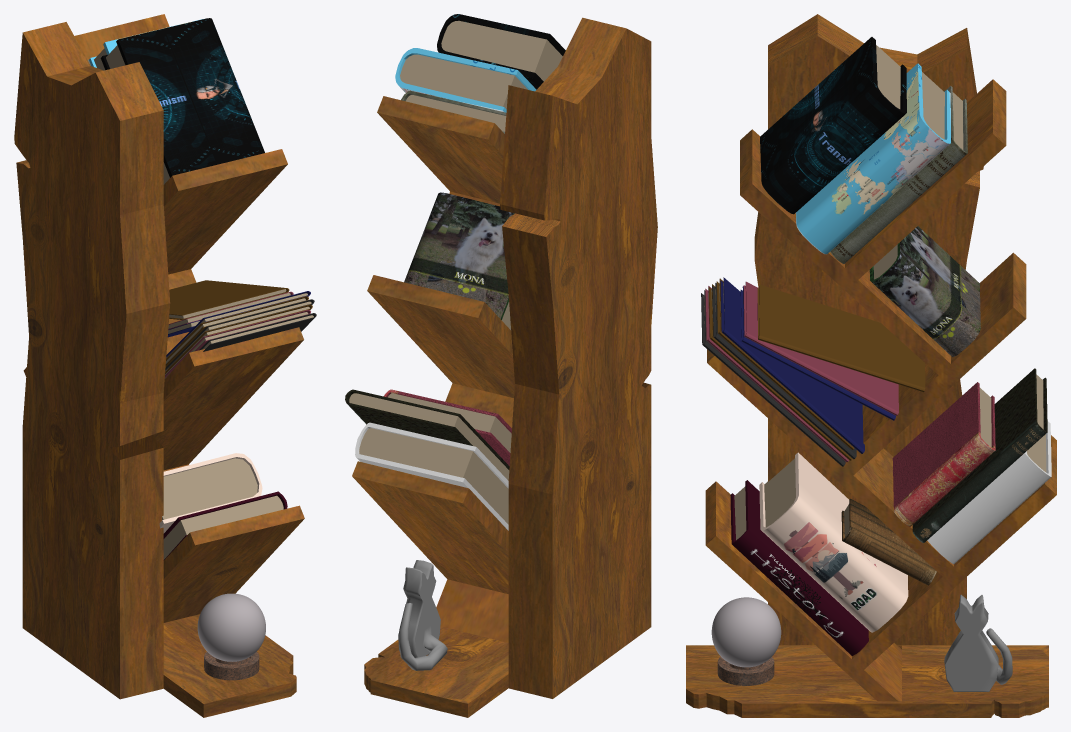
The model's file is 3d_wall_bookshelf_-_lowpoly.glb.
3 views of the same model, side by side, from view 1: azimuth 30°, elevation 25°; view 2: azimuth 150°, elevation 25°; view 3: azimuth 270°, elevation 25° (orthographic). The views are drawn at different scales.
Visible parts, largest first — view 1: Polica_za_Knjige-material (×2), Knjiga10-material, BELA_KREM-material (×3), SIJALICA-material, Casopis_Zuta-material (×3), Casopis_Crna-material (×2), METAL_TEKSTURA2-material, Knjiga2-material, Knjiga1-material, Casopis_Crvena-material; view 2: Polica_za_Knjige-material (×2), BELA_KREM-material (×6), Knjiga7_001-material, Bela_za_Macu-material, Knjiga5-material, Knjiga4-material, Knjiga9-material, Knjiga10-material, Knjiga6-material; view 3: Polica_za_Knjige-material (×2), Knjiga10-material, Casopis_Zuta-material (×3), Knjiga2-material, Knjiga9-material, Knjiga7_001-material, Knjiga6-material, Casopis_Plava-material (×2), Knjiga1-material, Knjiga5-material, Knjiga4-material, Casopis_Crvena-material (×2) (+7 smaller).
Part boxes in pixels (x1,y1,x2,y2): Polica_za_Knjige-material (×2): (14,14,304,717); Knjiga10-material: (100,18,264,177); BELA_KREM-material (×3): (162,298,305,559); SIJALICA-material: (197,593,265,661); Casopis_Zuta-material (×3): (165,280,312,373); Casopis_Crna-material (×2): (165,299,316,370); METAL_TEKSTURA2-material: (204,651,259,680); Knjiga2-material: (159,453,262,533); Knjiga1-material: (163,491,287,560); Casopis_Crvena-material: (165,309,310,377); Polica_za_Knjige-material (×2): (352,17,657,717); BELA_KREM-material (×6): (349,20,562,524); Knjiga7_001-material: (404,192,514,319); Bela_za_Macu-material: (398,560,447,670); Knjiga5-material: (345,389,509,469); Knjiga4-material: (355,422,508,530); Knjiga9-material: (395,48,536,112); Knjiga10-material: (437,14,565,89); Knjiga6-material: (383,389,511,465); Polica_za_Knjige-material (×2): (686,14,1056,717); Knjiga10-material: (760,37,906,214); Casopis_Zuta-material (×3): (708,278,925,460); Knjiga2-material: (759,452,908,632); Knjiga9-material: (795,63,950,254); Knjiga7_001-material: (869,226,980,357); Knjiga6-material: (892,382,995,526); Casopis_Plava-material (×2): (720,277,895,453); Knjiga1-material: (730,480,868,655); Knjiga5-material: (912,368,1047,542); Knjiga4-material: (927,421,1051,564); Casopis_Crvena-material (×2): (705,281,898,462).
Bounding box in the file's own units: 0.7691 × 2.65 × 1.43.
20 materials, 11 textured.
